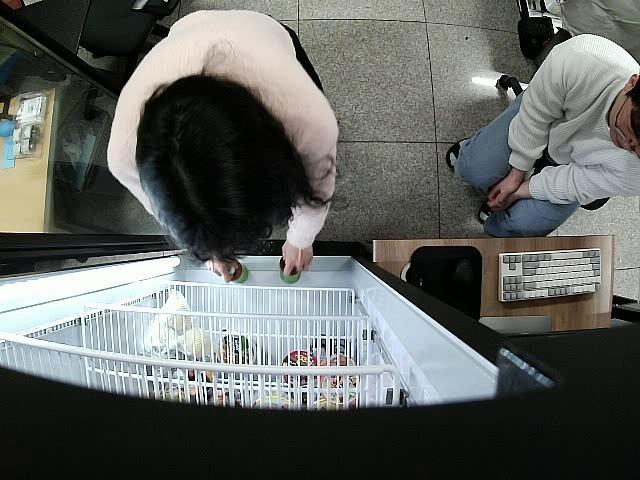19_17cha: (216, 260, 252, 284), (275, 257, 301, 284)
